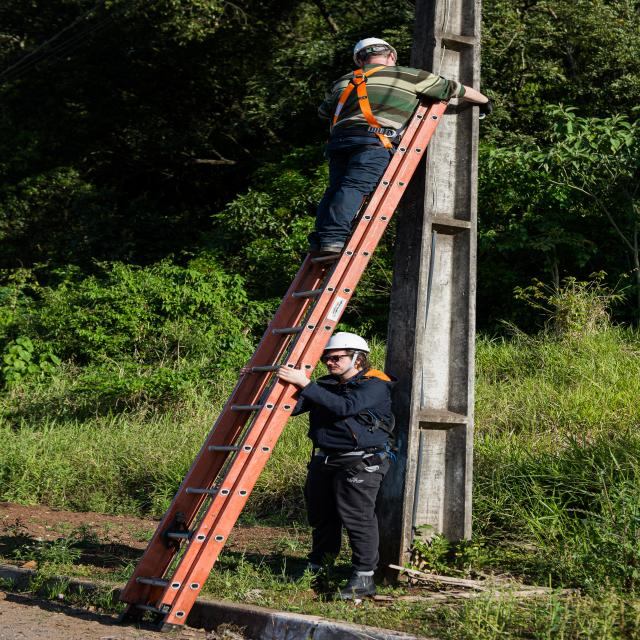botas: (332, 570, 383, 606)
capacete: (315, 330, 372, 354), (351, 36, 401, 62)
